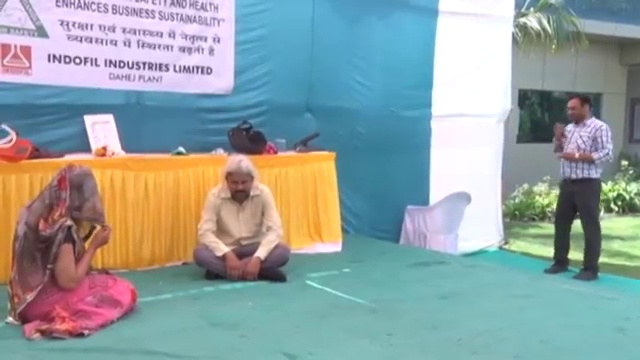helmet_off: (223, 156, 257, 206), (55, 166, 95, 206), (565, 95, 593, 124)
person: (3, 163, 137, 344), (192, 153, 292, 285), (548, 97, 613, 284)
